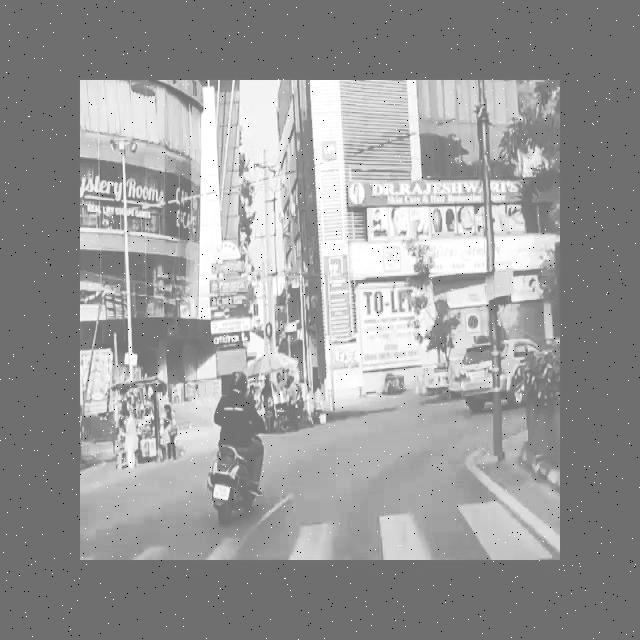Bike: (206, 373, 272, 527)
Car: (449, 332, 546, 416)
